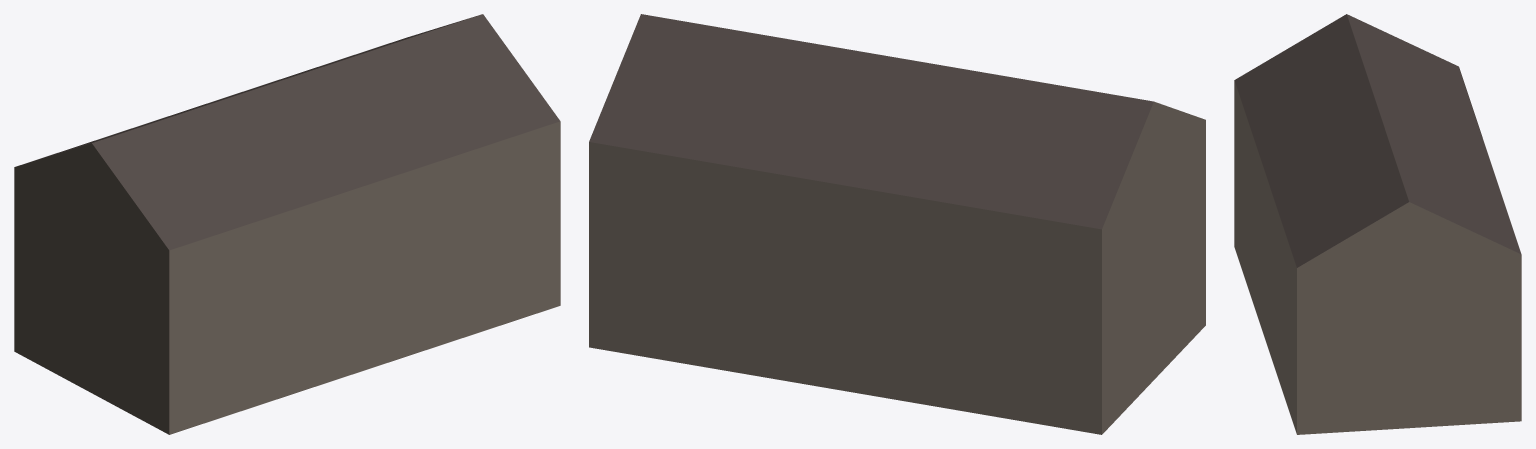
The picture shows the model from 3 angles, left to right: view 1: azimuth 30°, elevation 25°; view 2: azimuth 150°, elevation 25°; view 3: azimuth 270°, elevation 25°; orthographic projection. The views are drawn at different scales.
Parts seen in each view (by area): view 1: HP-w408450721; view 2: HP-w408450721; view 3: HP-w408450721.
Part boxes in pixels (x1,y1,x2,y2): HP-w408450721: (14, 14, 560, 434); HP-w408450721: (589, 14, 1205, 434); HP-w408450721: (1234, 14, 1521, 434).
Size of the model in its own units: 15.54 by 8.13 by 9.36.
